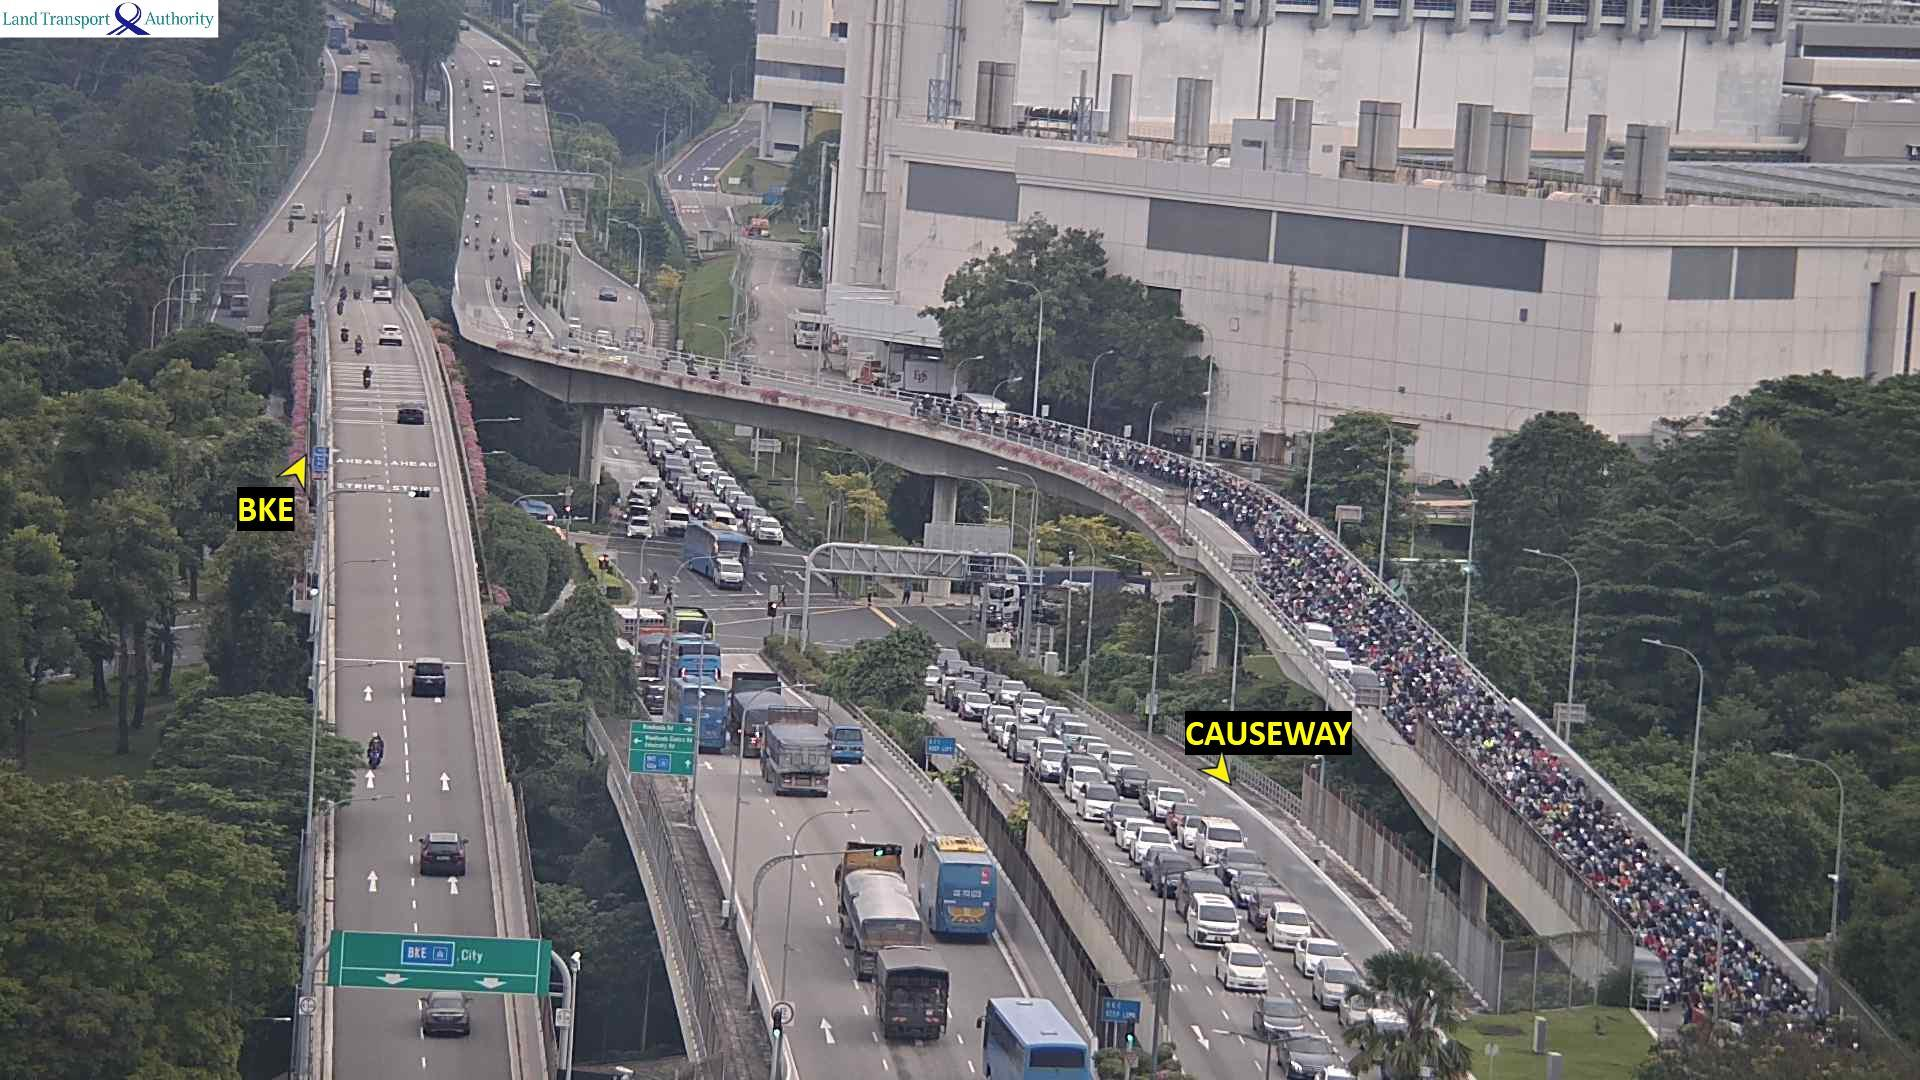vehicle-causeway-johor: (690, 523, 749, 574), (1173, 874, 1228, 916), (1281, 1039, 1335, 1078), (1145, 853, 1205, 884), (1254, 1003, 1308, 1036), (1189, 822, 1243, 854), (1301, 940, 1345, 978), (1187, 923, 1248, 950), (1318, 960, 1352, 1008), (1209, 850, 1270, 876), (1263, 924, 1320, 951), (1073, 799, 1127, 825), (1128, 828, 1182, 854), (1251, 888, 1287, 925), (1036, 745, 1078, 776), (1008, 726, 1045, 761), (1224, 949, 1265, 976), (1030, 741, 1071, 767), (1061, 762, 1102, 786), (1320, 647, 1351, 678), (980, 714, 1017, 739), (937, 676, 970, 704), (1105, 816, 1151, 836), (1304, 621, 1336, 649), (1113, 772, 1152, 794), (947, 683, 981, 708), (1141, 783, 1183, 801), (1041, 706, 1071, 731), (964, 703, 998, 724), (717, 559, 741, 588), (1096, 756, 1131, 774), (1051, 717, 1084, 736), (1021, 700, 1047, 723), (758, 518, 782, 542), (1165, 804, 1195, 823), (1001, 682, 1027, 703), (705, 505, 731, 526), (1086, 744, 1113, 763), (666, 508, 688, 531), (690, 490, 718, 508), (643, 431, 671, 449), (923, 666, 940, 694), (1016, 691, 1041, 710), (985, 674, 1012, 691), (709, 471, 733, 490), (682, 483, 714, 496), (664, 416, 688, 432), (726, 488, 746, 507), (971, 669, 992, 687), (717, 477, 738, 495), (676, 430, 698, 447), (947, 662, 971, 677), (693, 448, 714, 465), (697, 497, 718, 514), (671, 419, 690, 437), (743, 510, 767, 524), (634, 422, 658, 436), (657, 409, 680, 423), (717, 512, 737, 527), (700, 462, 720, 477), (738, 497, 756, 513), (654, 443, 671, 459), (683, 441, 703, 454), (526, 320, 537, 339), (740, 370, 752, 385), (660, 357, 671, 369), (710, 366, 719, 379), (493, 277, 501, 291), (503, 286, 510, 300), (518, 301, 524, 316), (688, 362, 694, 376), (489, 233, 497, 243), (473, 214, 480, 225), (504, 240, 507, 257), (475, 238, 479, 250), (463, 237, 469, 245), (488, 248, 492, 259)
vehicle-causeway-singapore: (980, 1002, 1108, 1080), (914, 841, 1012, 942), (838, 869, 926, 949), (865, 967, 948, 1041), (756, 731, 831, 778), (675, 681, 724, 748), (663, 638, 717, 678), (421, 1003, 477, 1039), (415, 837, 470, 873), (724, 673, 788, 696), (413, 666, 448, 700), (825, 729, 862, 760), (773, 782, 836, 797), (401, 405, 435, 422), (368, 733, 386, 762), (400, 409, 424, 428), (382, 325, 402, 346), (373, 287, 394, 303), (375, 256, 392, 268), (378, 237, 391, 250), (373, 277, 389, 287), (364, 368, 370, 389), (342, 326, 348, 341), (344, 261, 350, 275), (379, 211, 385, 225), (355, 237, 361, 248), (359, 222, 363, 232), (370, 229, 373, 241)
